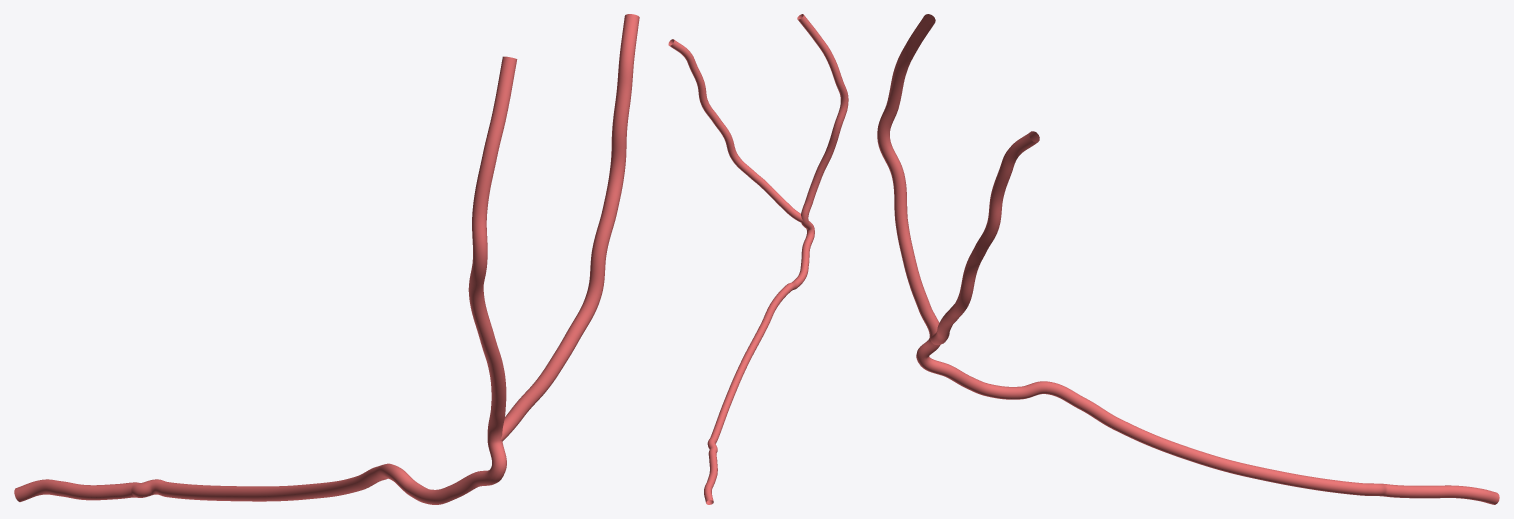
File: Supra-orbital_artery.l_BezierCurve.091.glb
3 renders of one model, left to right at view 1: azimuth 30°, elevation 25°; view 2: azimuth 150°, elevation 25°; view 3: azimuth 270°, elevation 25°, orthographic. The views are drawn at different scales.
Parts seen in each view (by area): view 1: Supra-orbital_artery.l_BezierCurve.091; view 2: Supra-orbital_artery.l_BezierCurve.091; view 3: Supra-orbital_artery.l_BezierCurve.091.
Part boxes in pixels (box(x1,y1,x2,y2)): Supra-orbital_artery.l_BezierCurve.091: box(14, 14, 639, 504); Supra-orbital_artery.l_BezierCurve.091: box(668, 14, 848, 504); Supra-orbital_artery.l_BezierCurve.091: box(877, 14, 1499, 504).
Bounding box in the file's own units: 0.027 × 0.0474 × 0.0482.
